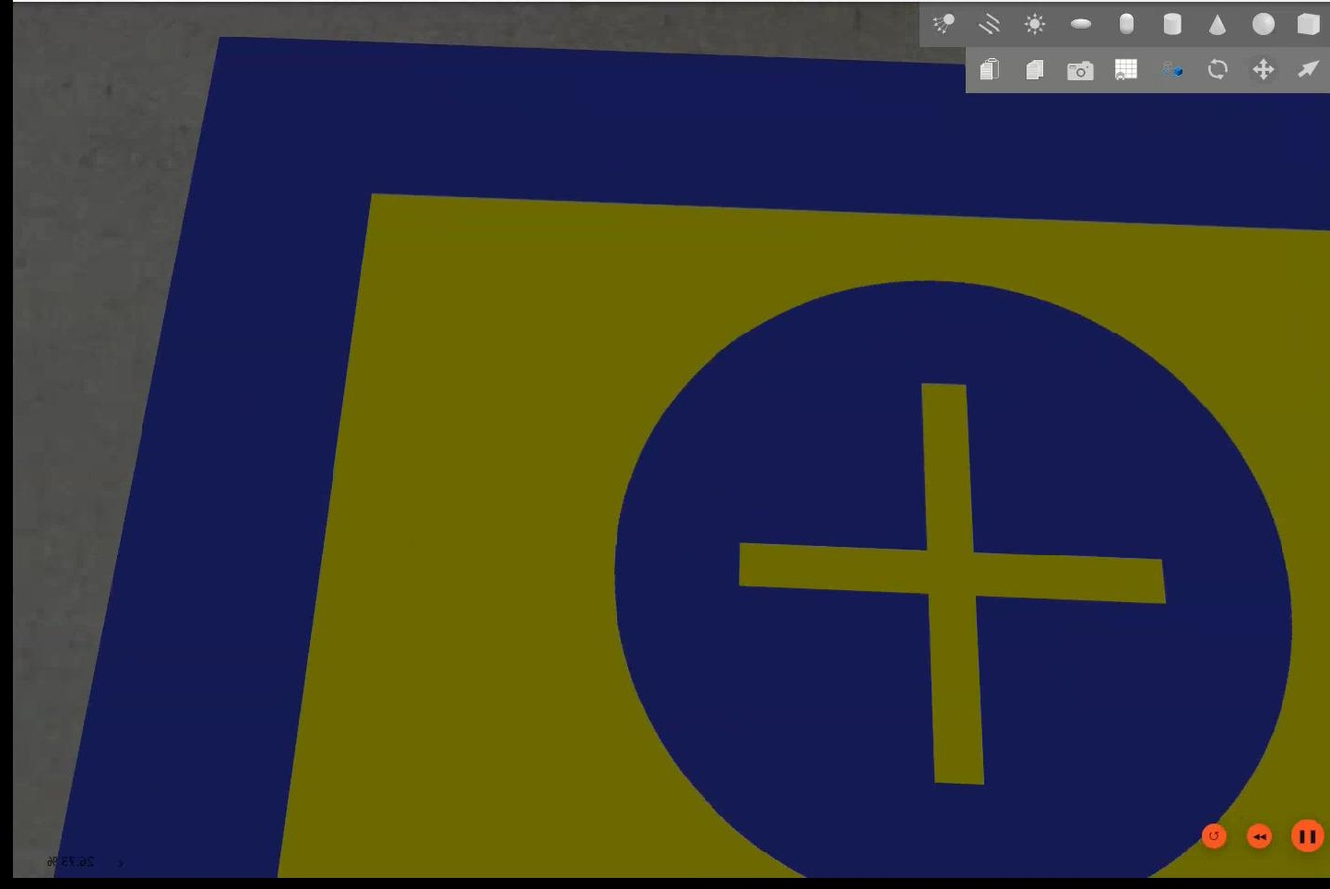large_base: (47, 32, 1328, 880)
